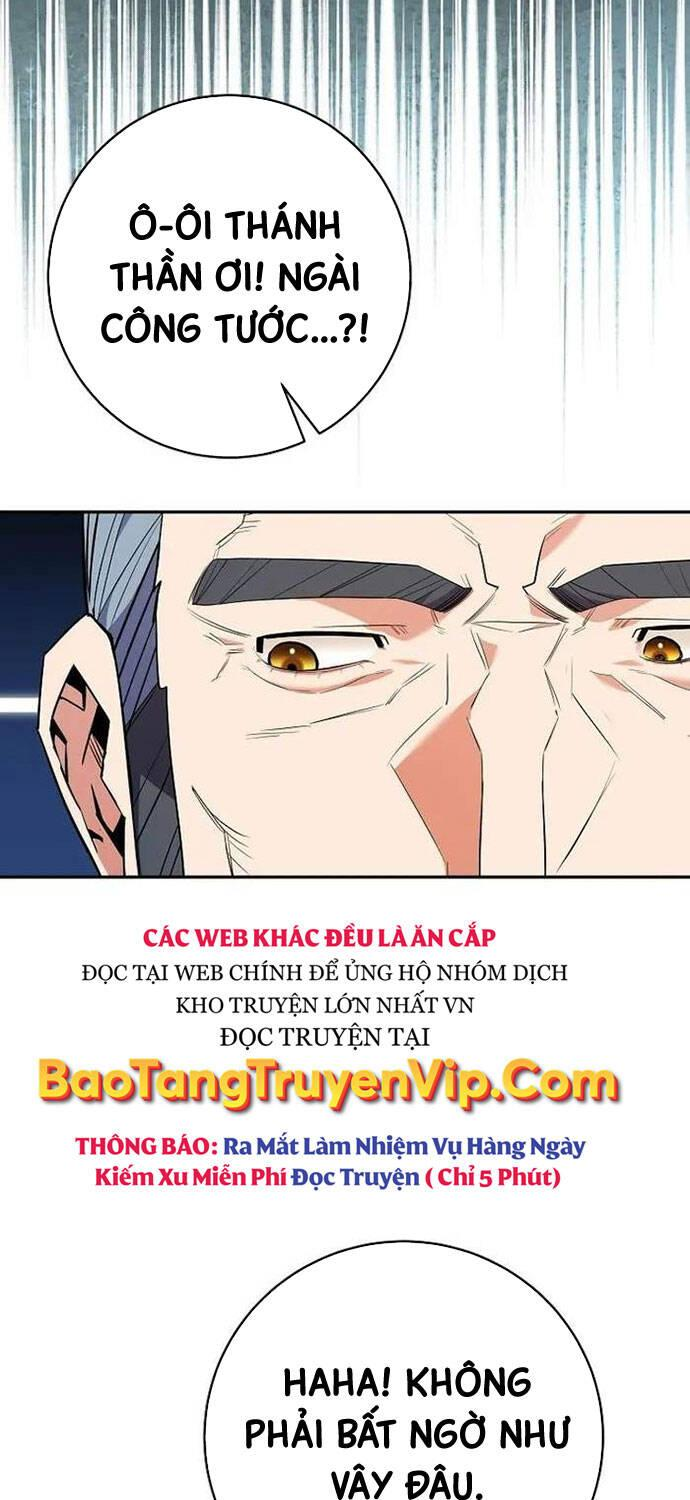quangcao: (42, 920, 632, 1206)
